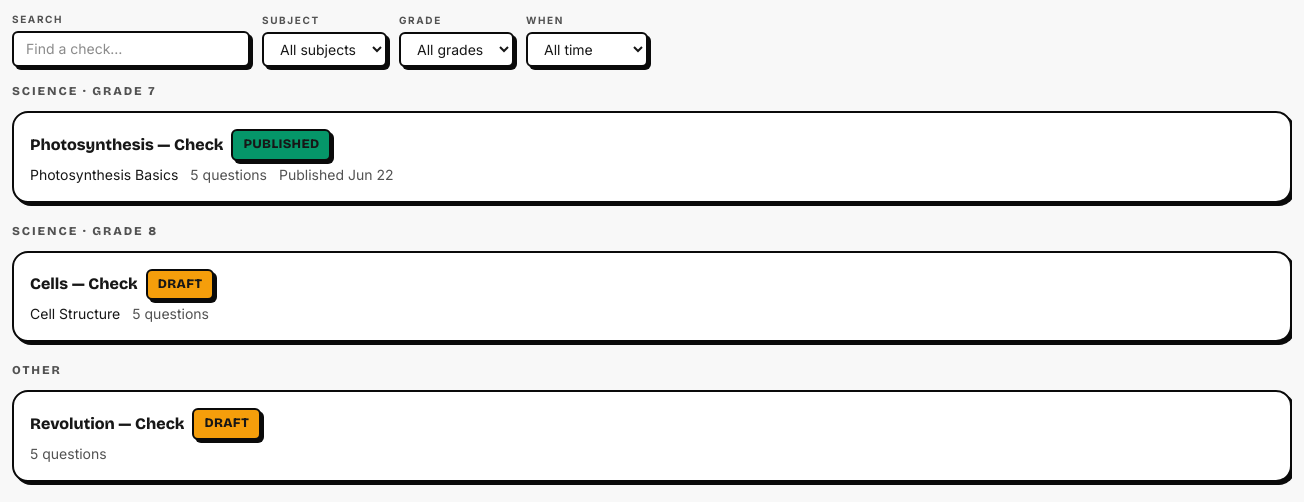
QuizLibrary › the date filter narrows by created date granularity
Note: "This week" should keep q1 (created Jun 20, within 7 days of Jun 23) and drop q3 (May 15).
Select "This week" in the dropdown labelled "When" at (587, 50), box x1=526 y1=32 x2=648 y2=67
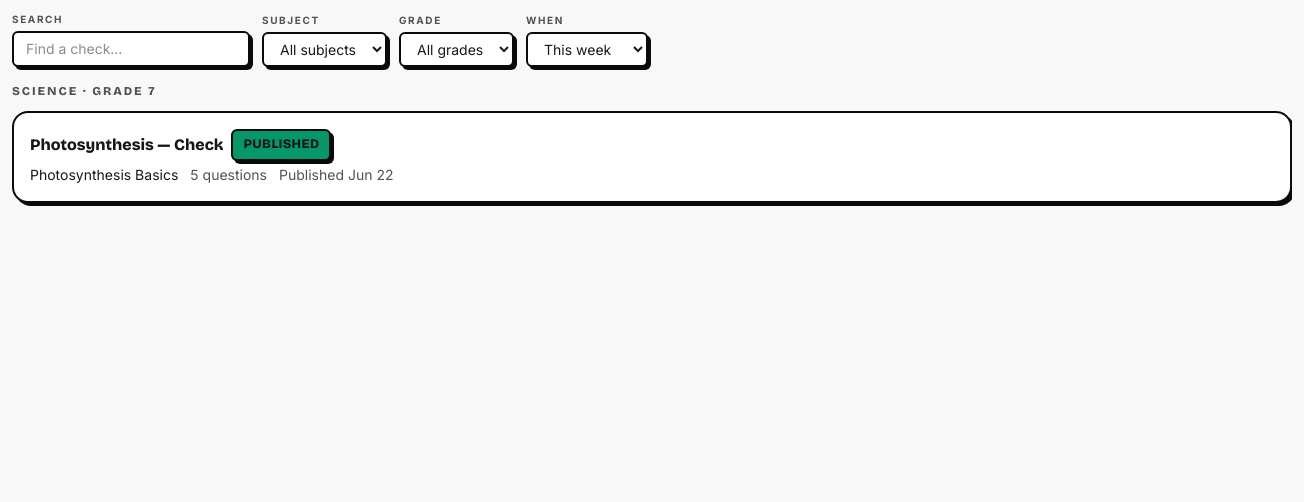
Expected: the text "Photosynthesis — Check" is shown, x1=30 y1=133 x2=223 y2=157
Result: the button "Revolution — Check" is gone
